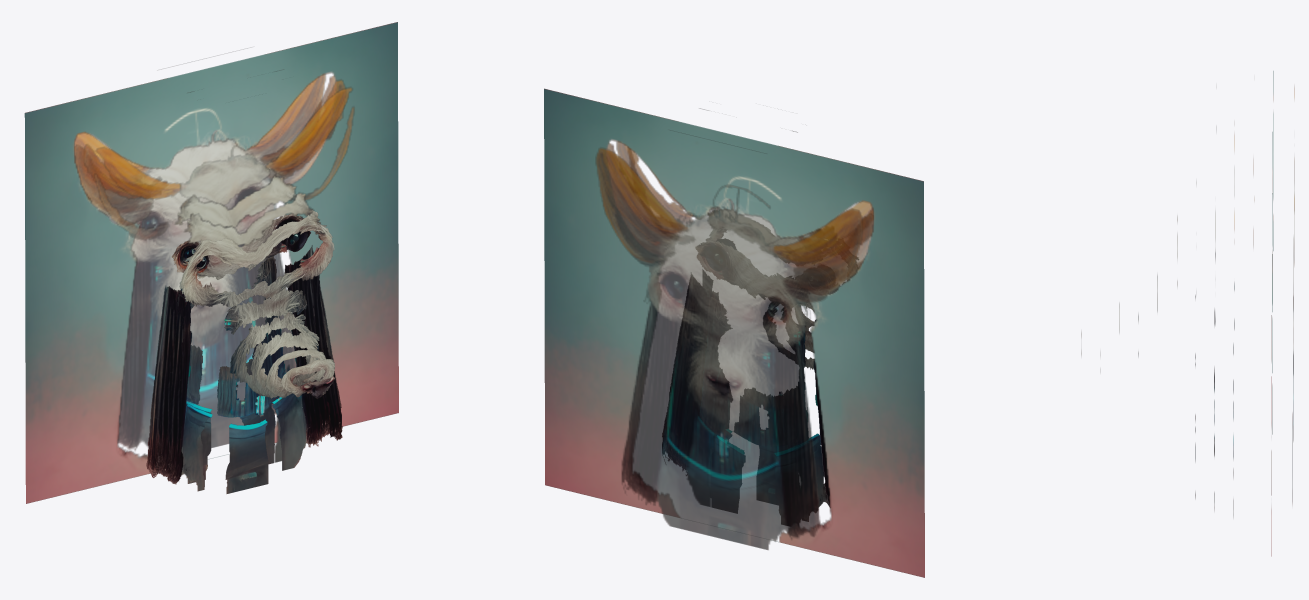
Rendered from goat.glb.
The picture shows the model from 3 angles, left to right: view 1: azimuth 30°, elevation 25°; view 2: azimuth 150°, elevation 25°; view 3: azimuth 270°, elevation 25°; orthographic projection. The views are drawn at different scales.
Visible parts, largest first — view 1: Plane.026, Plane.027, Plane.012, Plane.007, Plane.022, Plane.025, Plane.009, Plane.017, Plane.024, Plane.021, Plane.020, Plane.015 (+11 smaller); view 2: Plane.026, Plane.027, Plane.025, Plane.012, Plane.014, Plane.016, Plane.011, Plane.018, Plane.024, Plane.013, Plane.020, Plane.021 (+4 smaller); view 3: Plane.026, Plane.027.
Part boxes in pixels (x1,y1,x2,y2): Plane.026: [24, 22, 398, 503]; Plane.027: [74, 48, 325, 450]; Plane.012: [146, 245, 341, 479]; Plane.007: [179, 210, 334, 307]; Plane.022: [96, 87, 352, 199]; Plane.025: [74, 76, 336, 224]; Plane.009: [167, 274, 342, 484]; Plane.017: [182, 393, 307, 491]; Plane.024: [84, 79, 345, 199]; Plane.021: [179, 145, 270, 205]; Plane.020: [174, 175, 296, 227]; Plane.015: [225, 419, 268, 493]; Plane.026: [544, 88, 924, 577]; Plane.027: [595, 130, 862, 549]; Plane.025: [607, 143, 873, 293]; Plane.012: [662, 274, 830, 507]; Plane.014: [700, 297, 808, 447]; Plane.016: [710, 435, 807, 525]; Plane.011: [695, 238, 828, 307]; Plane.018: [688, 108, 818, 513]; Plane.024: [616, 141, 873, 251]; Plane.013: [734, 388, 786, 446]; Plane.020: [707, 209, 826, 256]; Plane.021: [714, 199, 802, 245]; Plane.026: [1271, 71, 1273, 556]; Plane.027: [1292, 87, 1294, 504].
Size of the model in its own units: 2.2 by 2.22 by 1.2.
27 materials, 27 textured.
